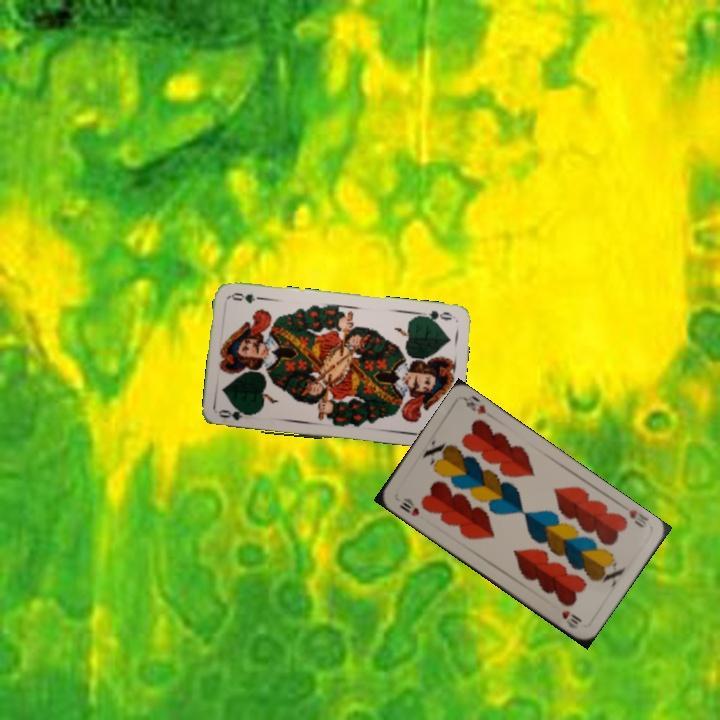GO: (216, 405, 257, 423), (415, 307, 456, 324)
H10: (625, 505, 651, 531), (395, 494, 422, 519)
